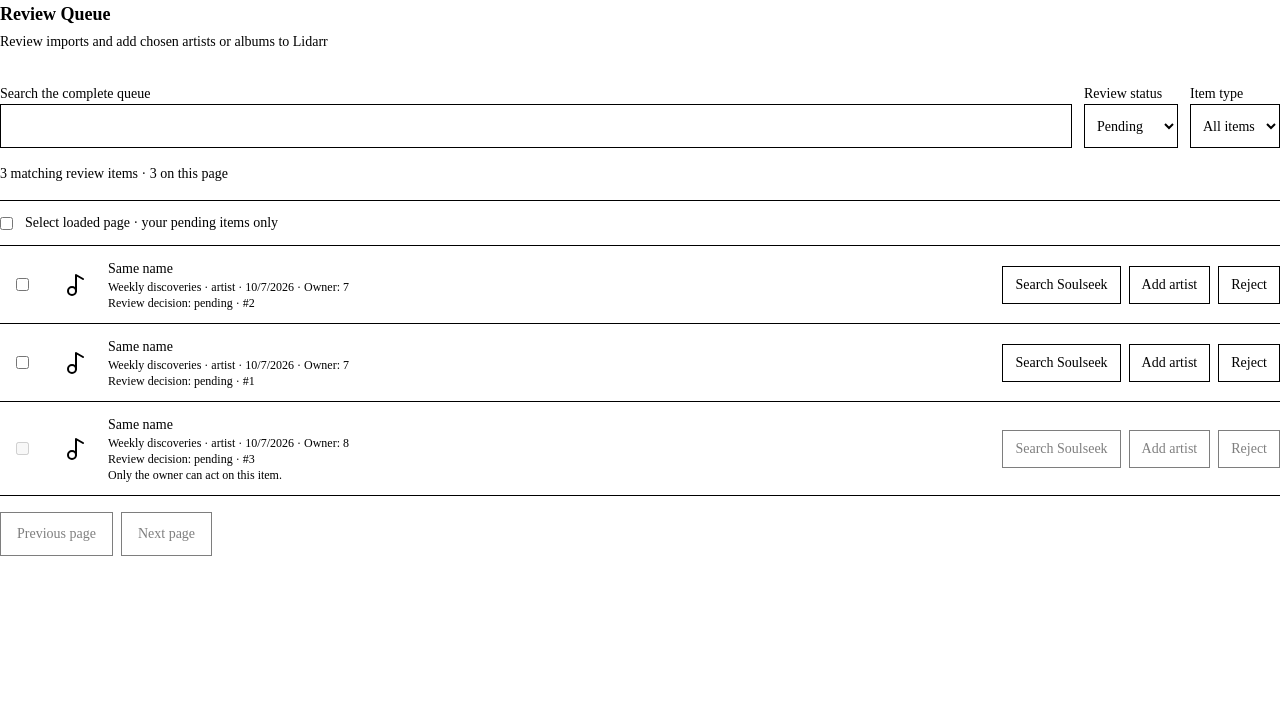
retains failed same-name rows and options, retrying only failed record IDs
Click the checkbox labelled "Select loaded page": click(6, 223) left=0, top=216, right=13, bottom=230
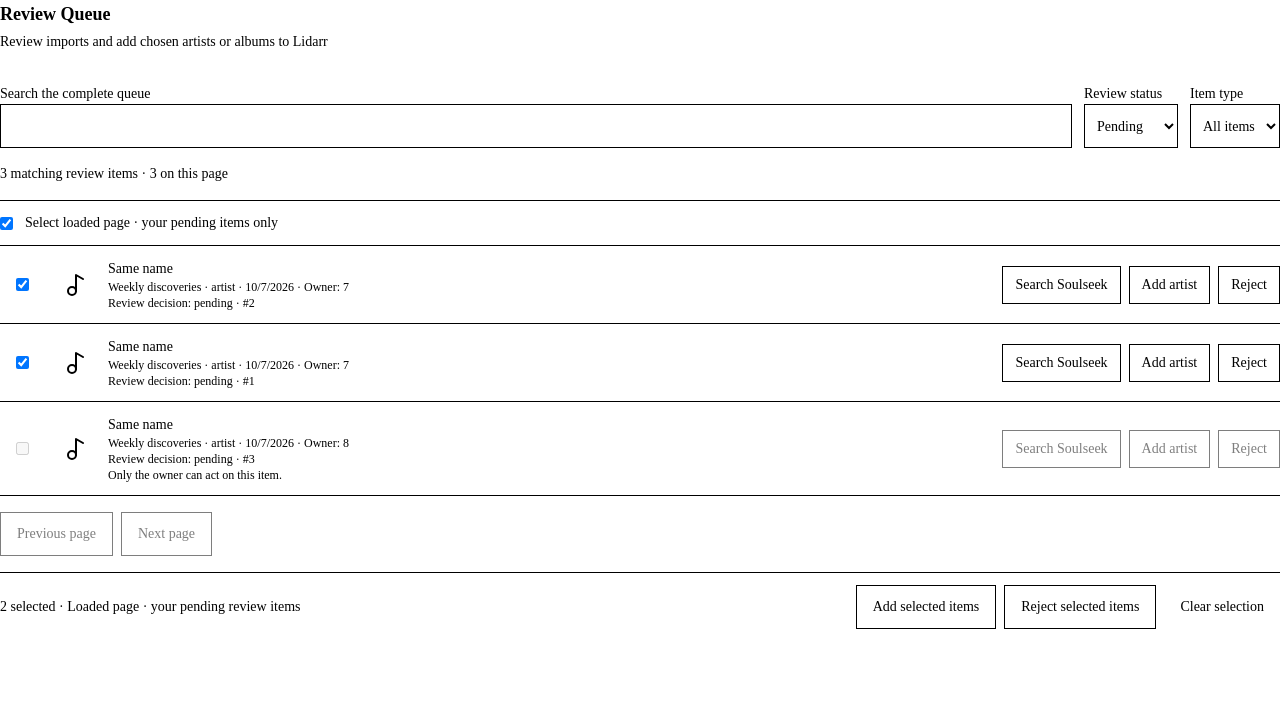
Click the button "Add selected items": click(926, 607) left=856, top=585, right=996, bottom=629
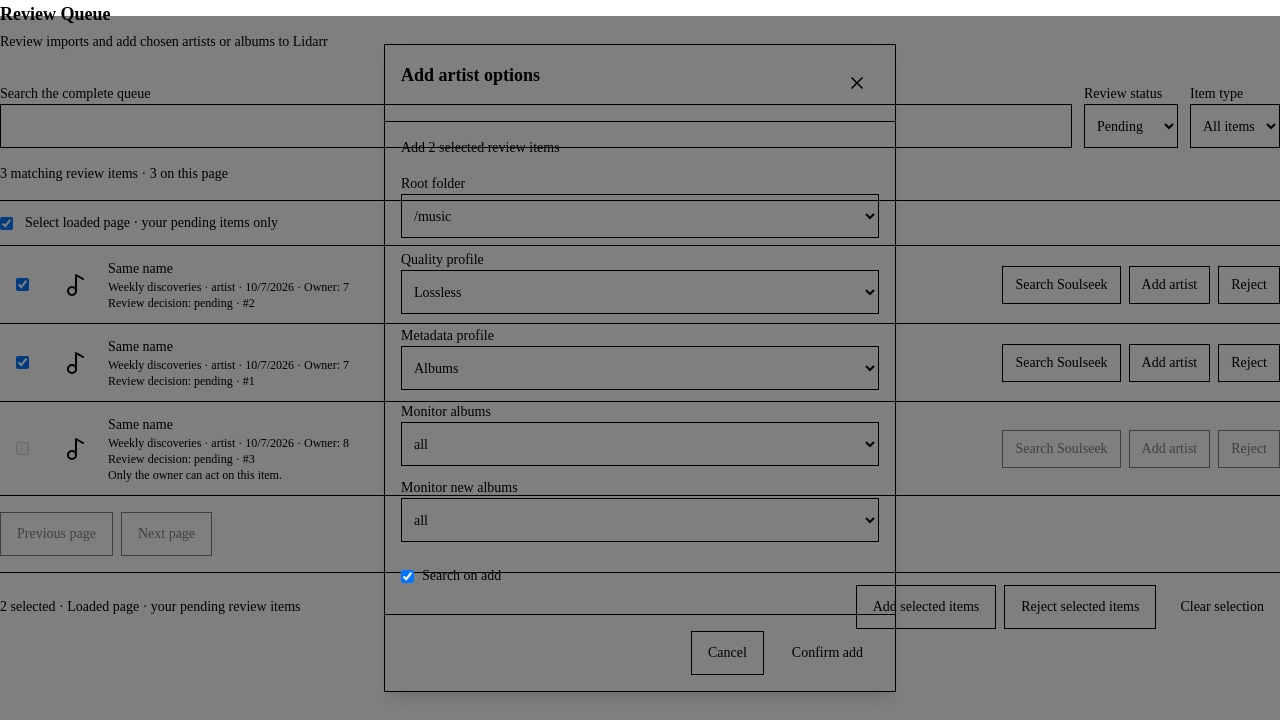
Expected: the dropdown labelled "Root folder" is enabled
Select "/archive" in the dropdown labelled "Root folder": (640, 216) left=401, top=194, right=879, bottom=238
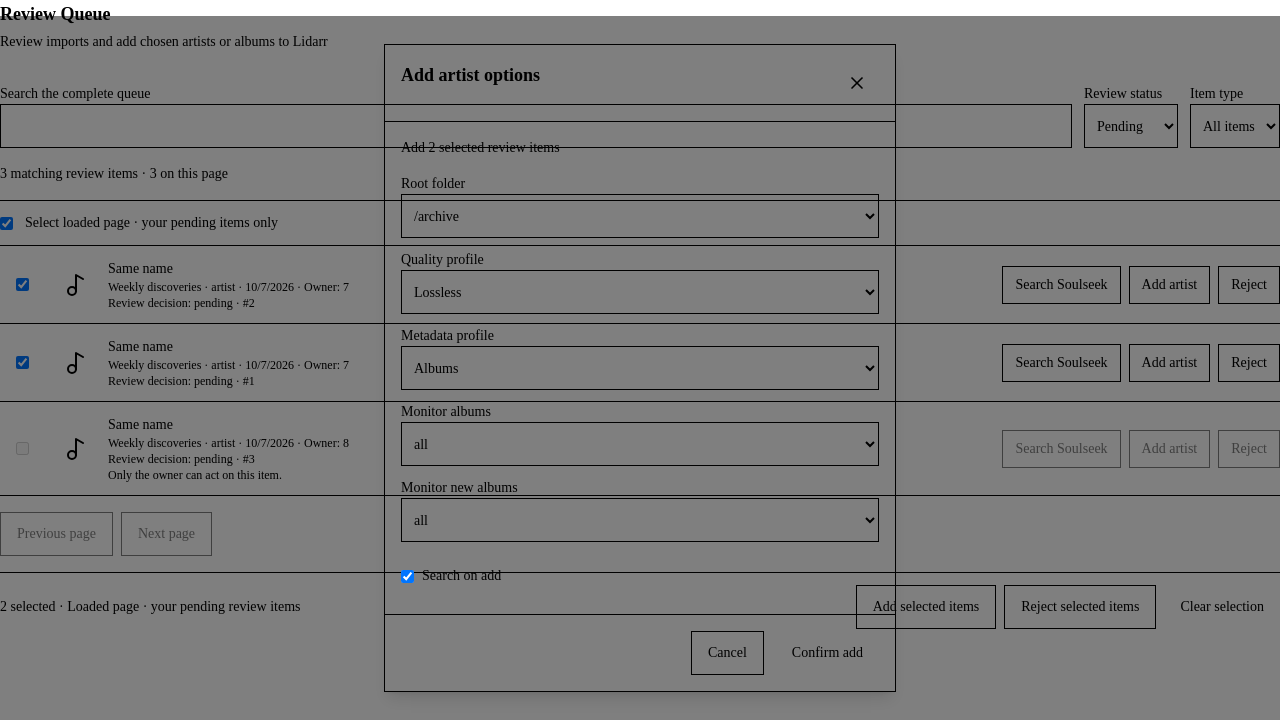
Click the checkbox labelled "Search on add": click(408, 576) left=401, top=570, right=414, bottom=582
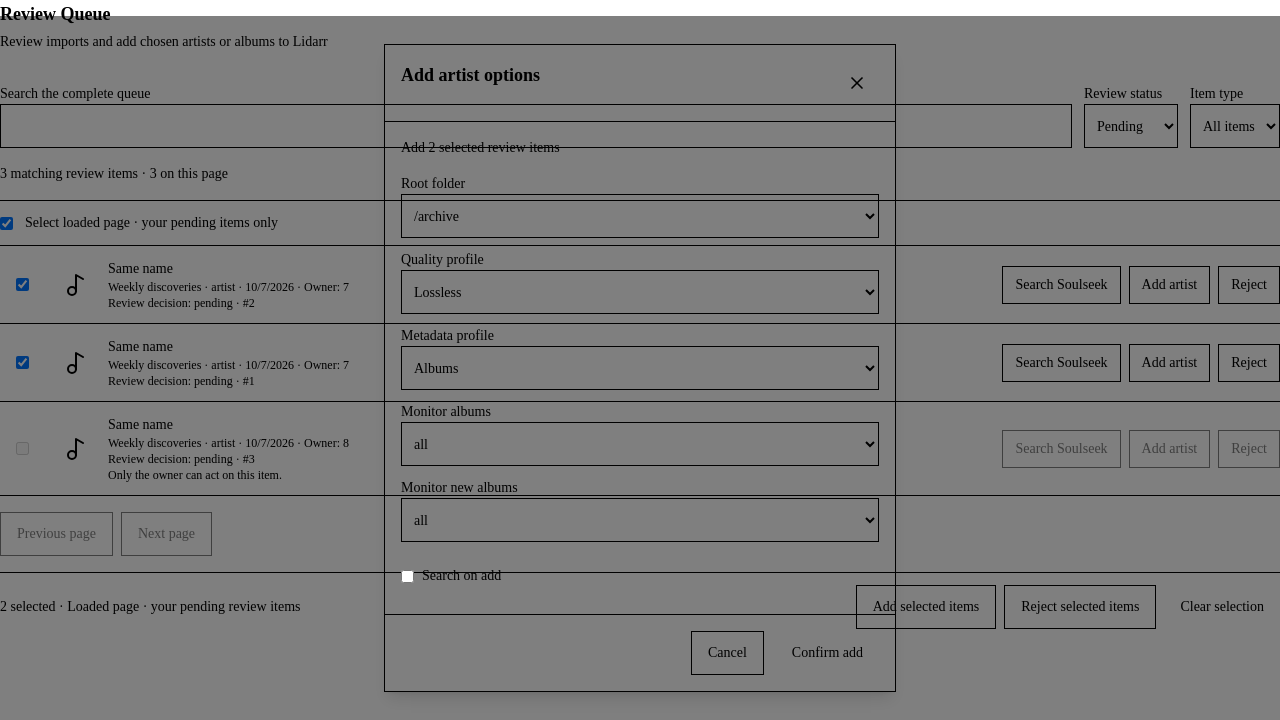
Click the button "Confirm add": click(827, 653) left=776, top=631, right=879, bottom=675
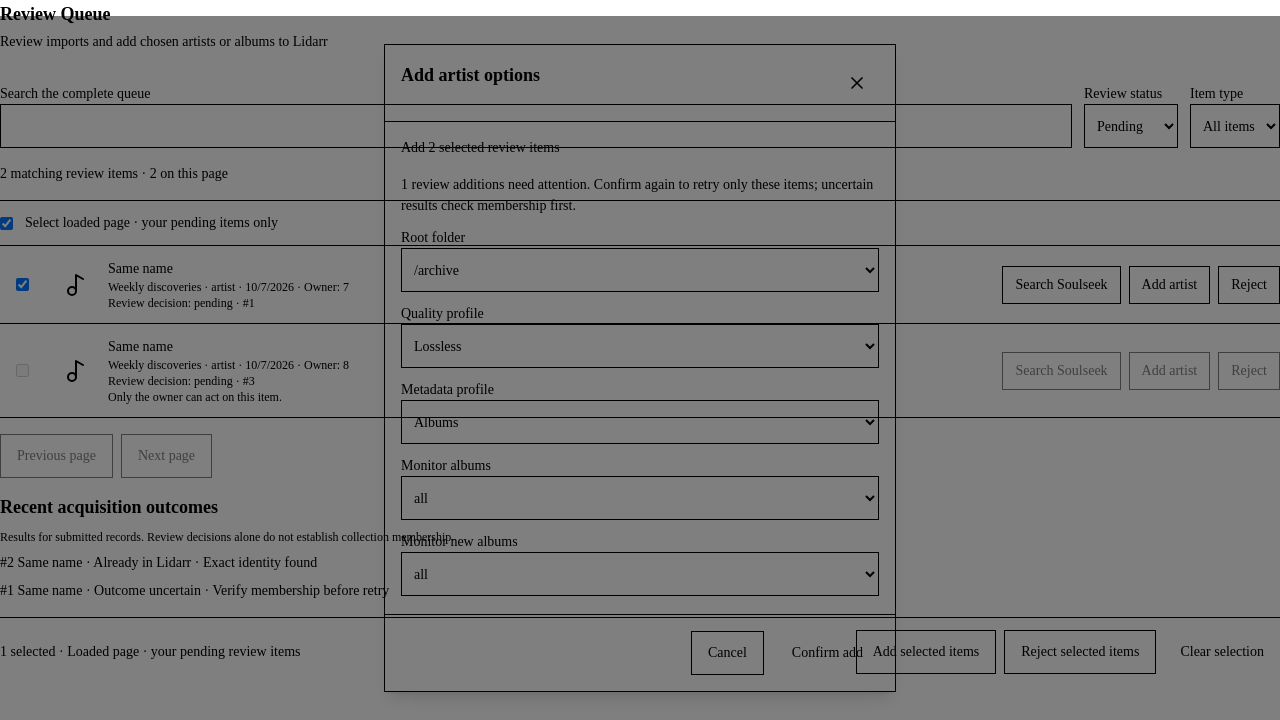
Expected: the checkbox named "Select review item 1" is checked, left=16, top=278, right=28, bottom=291
Expected: the text "Already in Lidarr" is shown, left=93, top=555, right=191, bottom=570
Click the button "Confirm add": click(827, 653) left=776, top=631, right=879, bottom=675
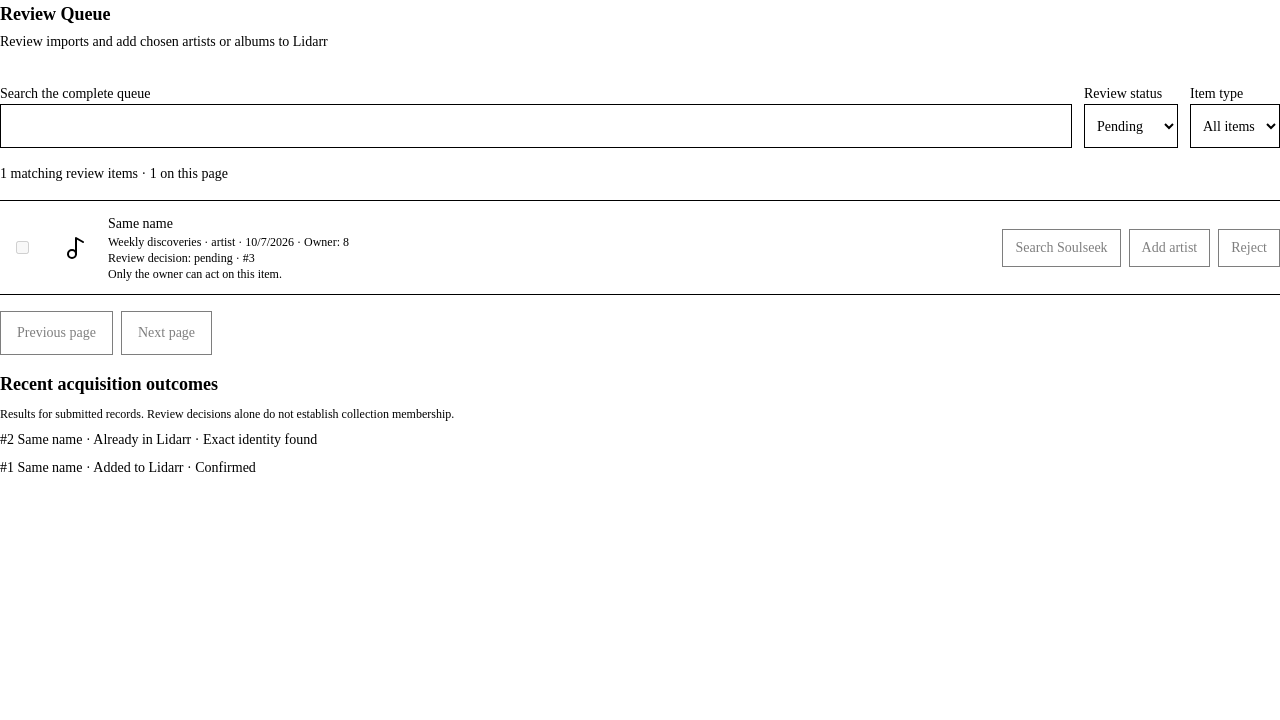
Expected: the dialog is gone
